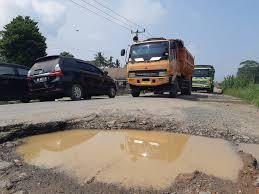Pothole: (0, 113, 259, 194)
